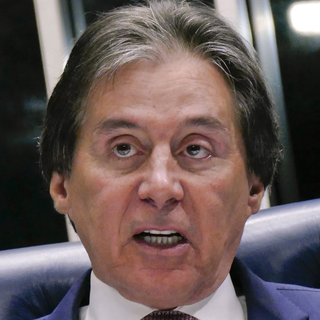eye: (176, 138, 220, 164), (102, 138, 145, 163)
